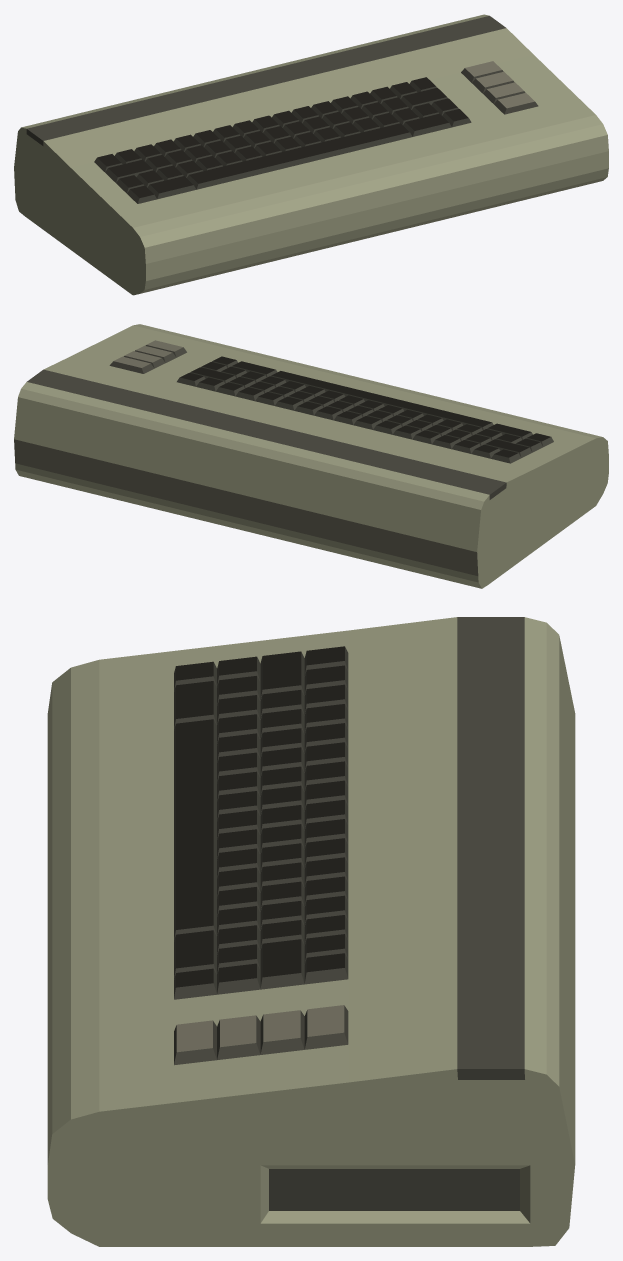
File: Commandore64.fbx
The picture shows the model from 3 angles, top to bottom: view 1: azimuth 30°, elevation 25°; view 2: azimuth 150°, elevation 25°; view 3: azimuth 270°, elevation 25°; orthographic projection. The views are drawn at different scales.
Parts seen in each view (by area): view 1: Commodore64; view 2: Commodore64; view 3: Commodore64.
Boxes of the visible parts, x1=… form: Commodore64: x1=14, y1=14, x2=608, y2=295; Commodore64: x1=14, y1=324, x2=608, y2=588; Commodore64: x1=47, y1=617, x2=575, y2=1246.
Bounding box in the file's own units: 40.64 × 7.46 × 20.04.
